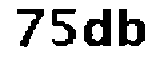5: (48, 6, 79, 53)
7: (12, 6, 45, 50)
b: (116, 7, 148, 54)
d: (82, 7, 114, 52)
